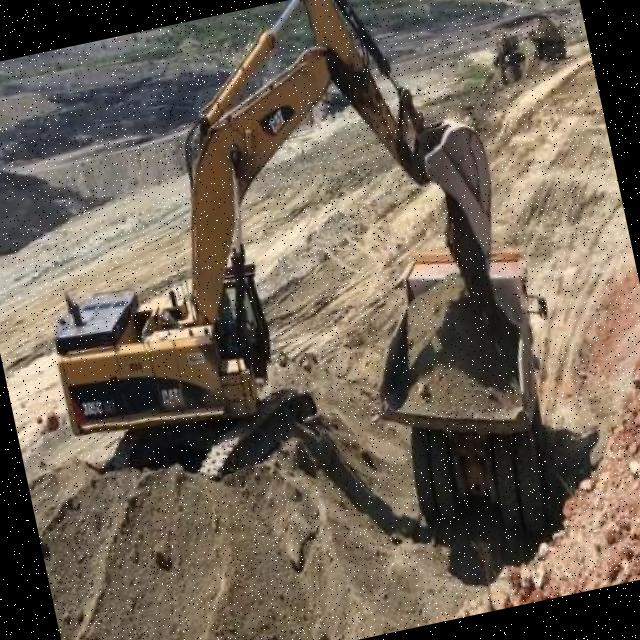Dump Truck: (348, 216, 585, 567), (525, 18, 571, 64)
Excavator: (0, 0, 543, 519), (488, 26, 528, 81)
